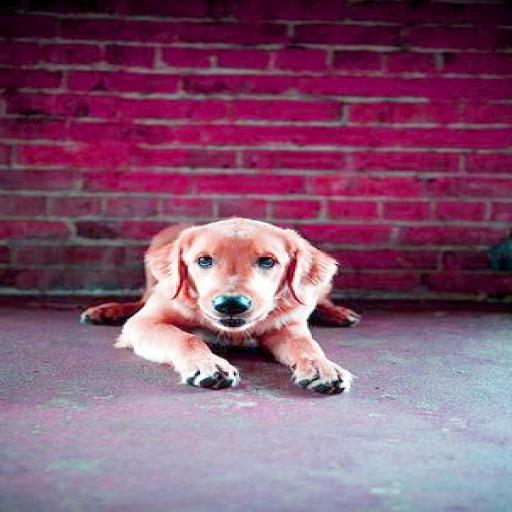dog_face: (155, 223, 337, 332)
